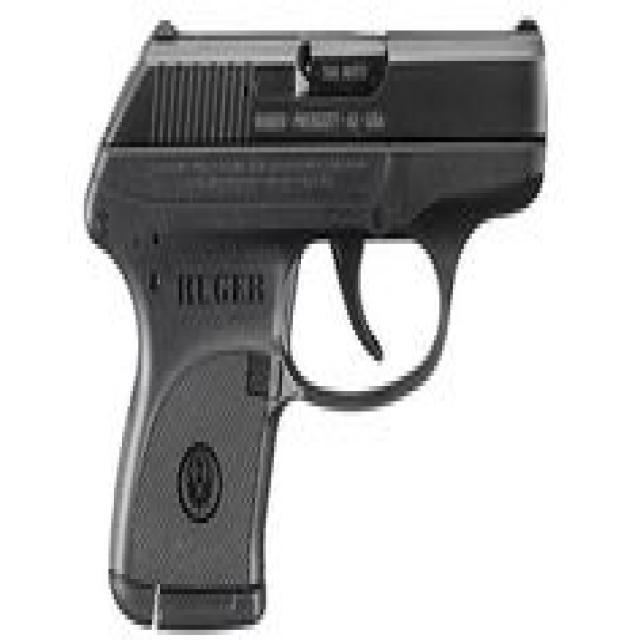semi automatic: (74, 0, 579, 640)
